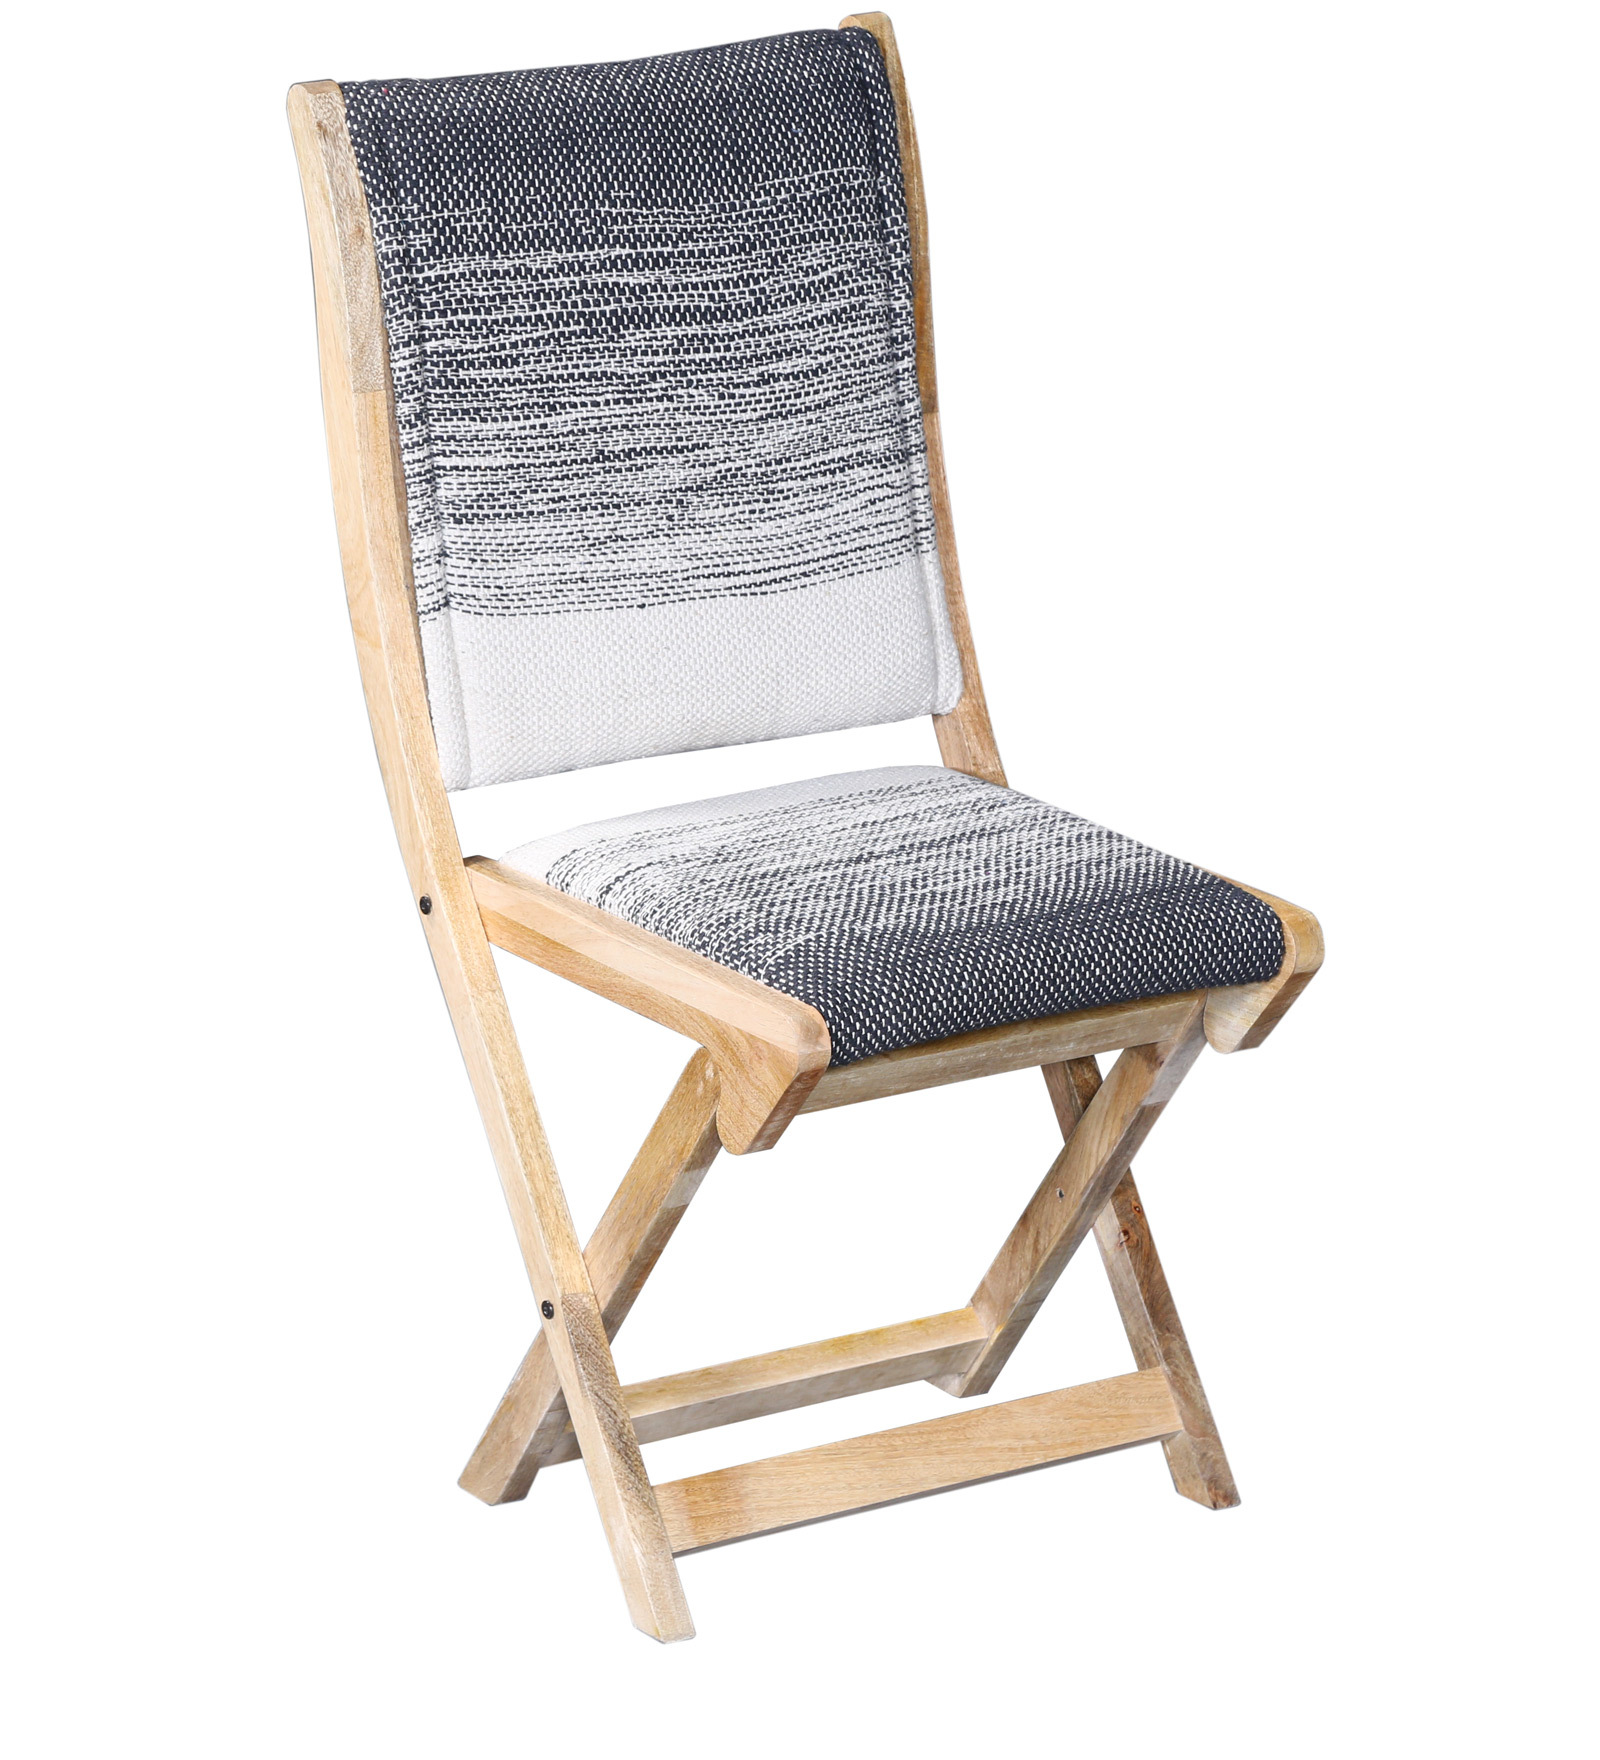Horan Folding Chair by Bohemiana: (244, 5, 1323, 1650)
